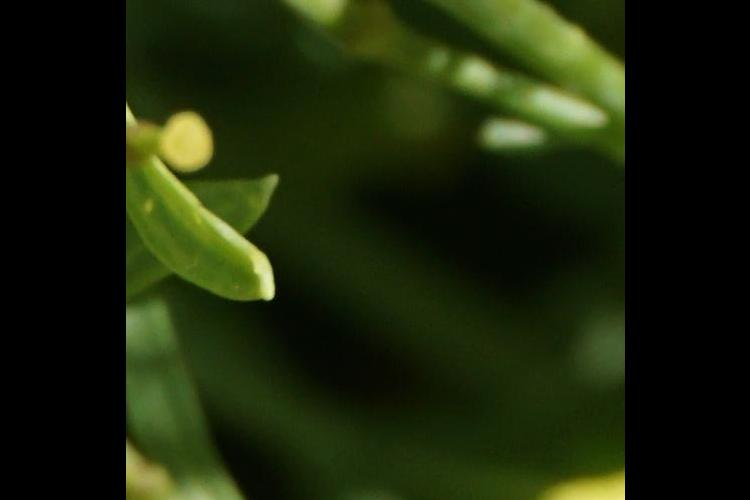bud: (140, 128, 279, 337)
